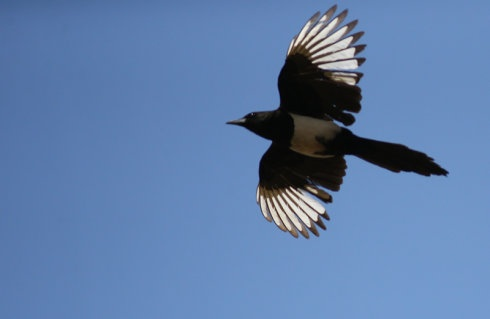bird: (217, 3, 450, 241)
